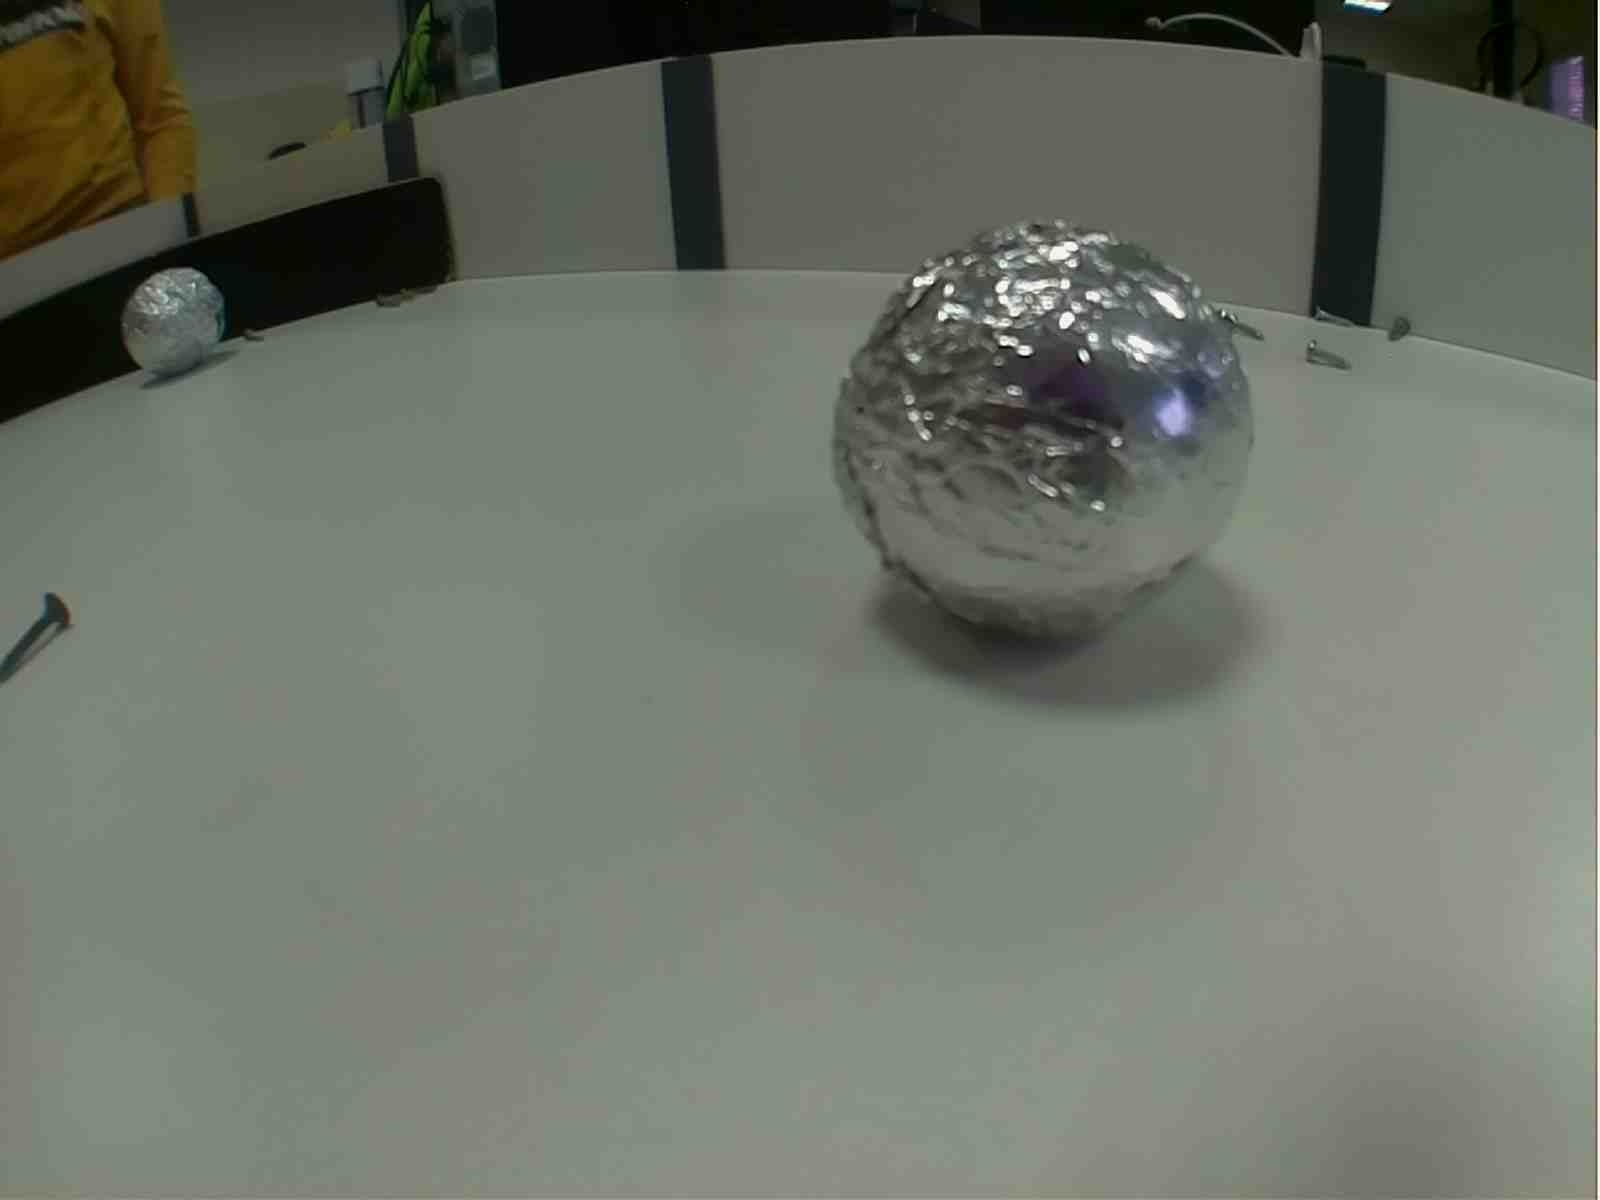bianca: (819, 213, 1272, 655), (117, 265, 226, 384)
